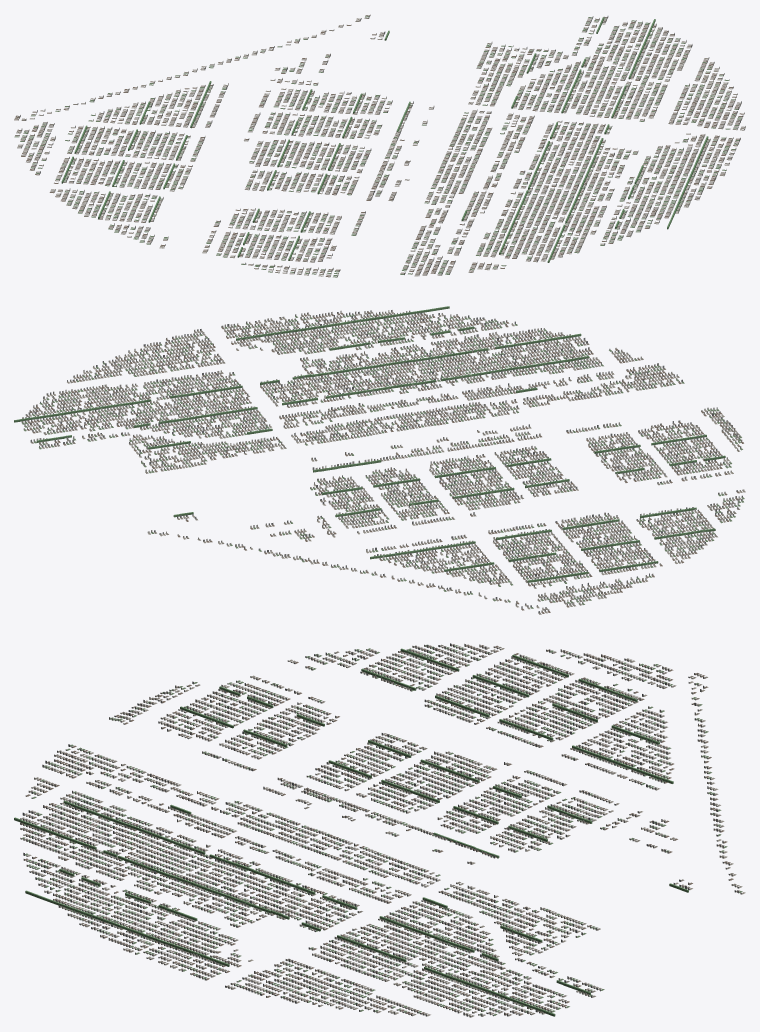
The model's file is k93_graves.glb.
3 renders of one model, top to bottom at view 1: azimuth 30°, elevation 25°; view 2: azimuth 150°, elevation 25°; view 3: azimuth 270°, elevation 25°, orthographic. The views are drawn at different scales.
Size of the model in its own units: 289 by 2.65 by 239.
